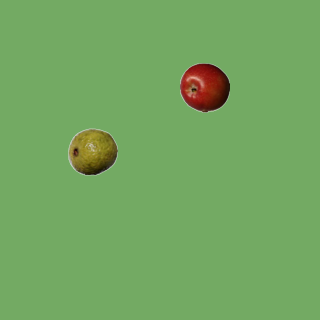Apple Braeburn: (179, 62, 229, 112)
Guava: (67, 126, 117, 176)
